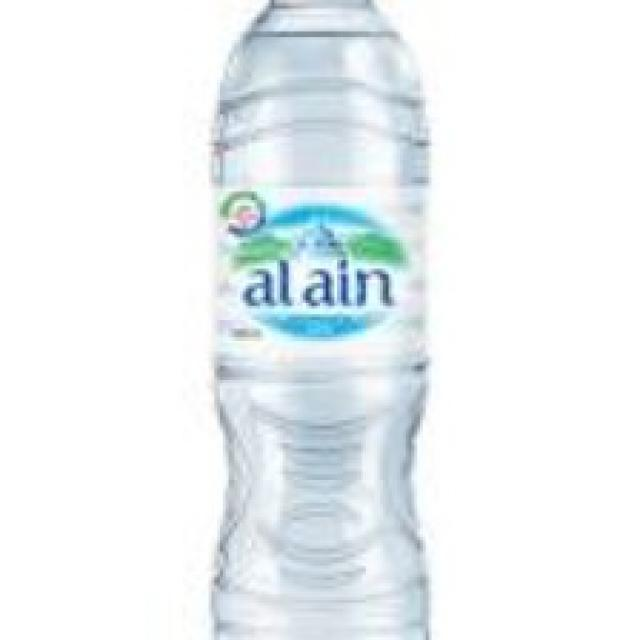plastic_bottle: (197, 1, 438, 640)
